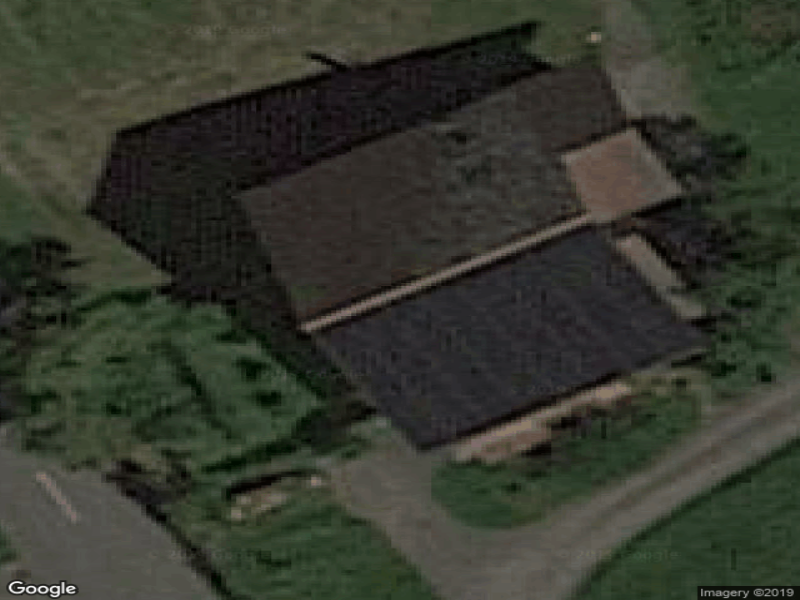pv: (315, 224, 705, 456)
